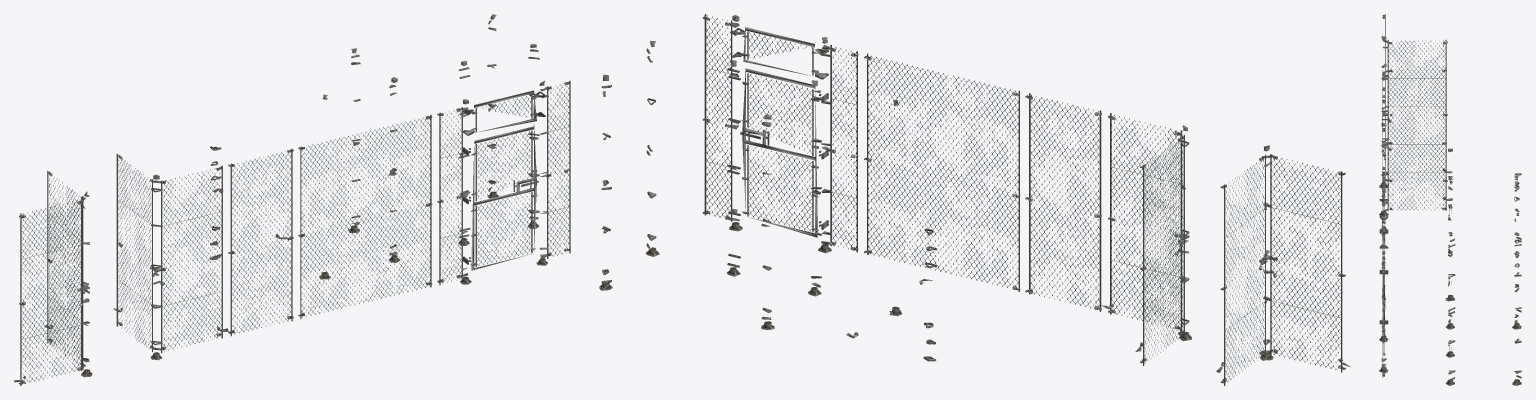
Rendered from modular_chainlink_fence.glb.
3 renders of one model, left to right at view 1: azimuth 30°, elevation 25°; view 2: azimuth 150°, elevation 25°; view 3: azimuth 270°, elevation 25°, orthographic. The views are drawn at different scales.
Parts seen in each view (by area): view 1: modular_chainlink_fence_double, modular_chainlink_fence_corner_outer, modular_chainlink_fence_corner_inner, modular_chainlink_fence_door_frame, modular_chainlink_fence, modular_chainlink_fence_door_gate; view 2: modular_chainlink_fence_double, modular_chainlink_fence_corner_inner, modular_chainlink_fence_corner_outer, modular_chainlink_fence_door_frame, modular_chainlink_fence, modular_chainlink_fence_door_gate; view 3: modular_chainlink_fence_corner_outer, modular_chainlink_fence_corner_inner, modular_chainlink_fence_door_frame, modular_chainlink_fence_door_gate, modular_chainlink_fence_start_01_corner_02, modular_chainlink_fence_start_01_corner_01, modular_chainlink_fence_end_01, modular_chainlink_fence_end_02, modular_chainlink_post_middle.
Part boxes in pixels (x1,y1,x2,y2): modular_chainlink_fence_double: (298, 114, 432, 319); modular_chainlink_fence_corner_outer: (113, 153, 228, 360); modular_chainlink_fence_corner_inner: (14, 170, 92, 385); modular_chainlink_fence_door_frame: (437, 80, 570, 285); modular_chainlink_fence: (228, 148, 293, 336); modular_chainlink_fence_door_gate: (470, 124, 537, 270); modular_chainlink_fence_double: (864, 53, 1020, 291); modular_chainlink_fence_corner_inner: (1216, 145, 1349, 385); modular_chainlink_fence_corner_outer: (1101, 113, 1191, 365); modular_chainlink_fence_door_frame: (702, 14, 858, 253); modular_chainlink_fence: (1025, 93, 1101, 311); modular_chainlink_fence_door_gate: (741, 68, 819, 237); modular_chainlink_fence_corner_outer: (1379, 63, 1452, 235); modular_chainlink_fence_corner_inner: (1379, 14, 1452, 188); modular_chainlink_fence_door_frame: (1379, 183, 1388, 378); modular_chainlink_fence_door_gate: (1382, 238, 1385, 355); modular_chainlink_fence_start_01_corner_02: (1512, 232, 1521, 385); modular_chainlink_fence_start_01_corner_01: (1445, 232, 1455, 385); modular_chainlink_fence_end_01: (1445, 176, 1454, 329); modular_chainlink_fence_end_02: (1512, 176, 1521, 329); modular_chainlink_post_middle: (1445, 204, 1454, 357).
Size of the model in its own units: 8.11 by 2.5 by 2.15.
Materials: 2 (2 with a texture image).
